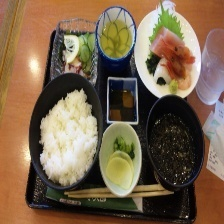rice: (31, 80, 101, 191)
